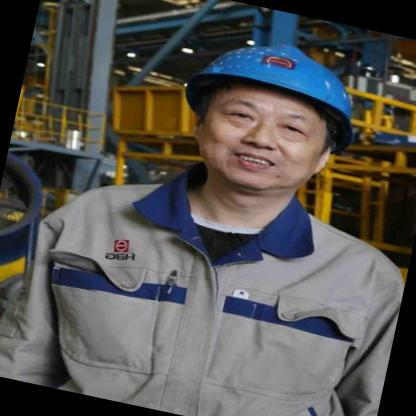helmet: (153, 15, 389, 225)
